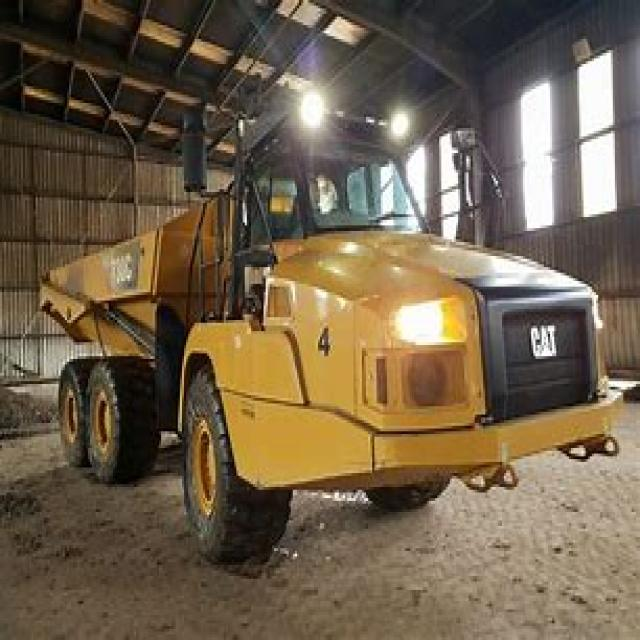dump_truck: (29, 103, 609, 570)
